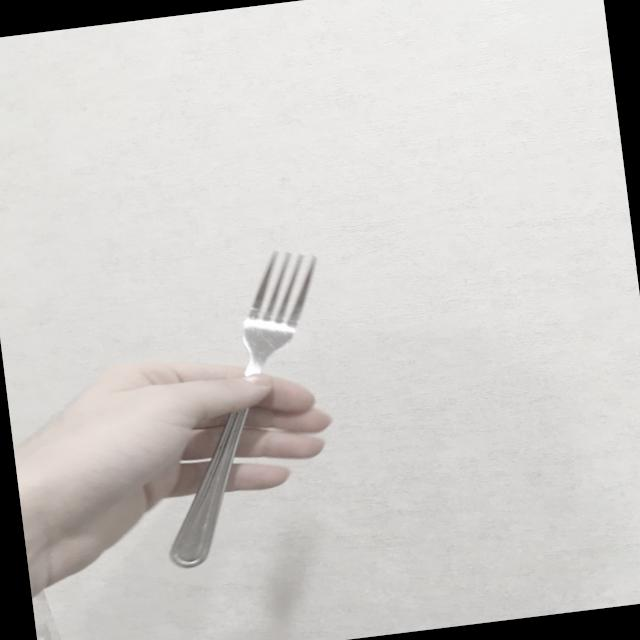fork: (134, 246, 354, 568)
